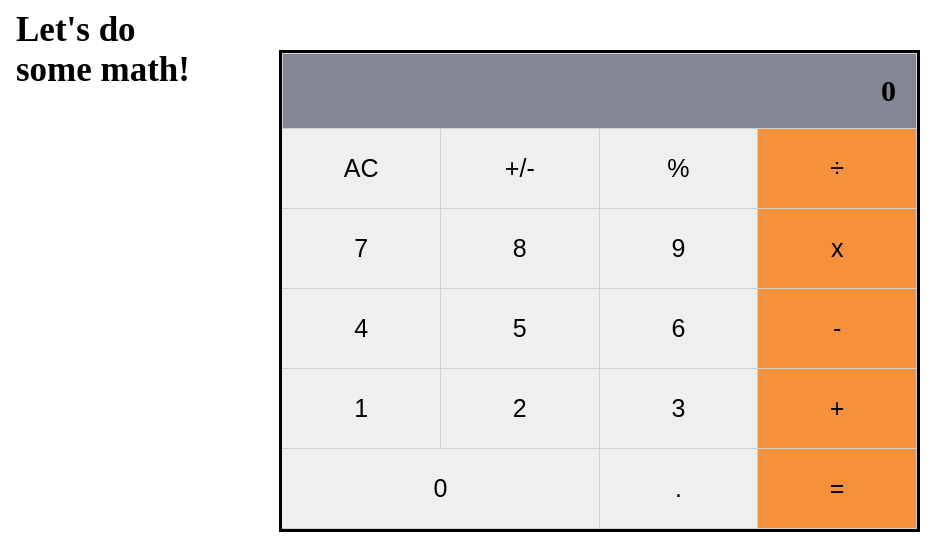
Test: Testing for calculator › See if the result of the operation 4-6 is -2
Step 1. Click the button "4" → point(362, 329), box [282,289,441,369]
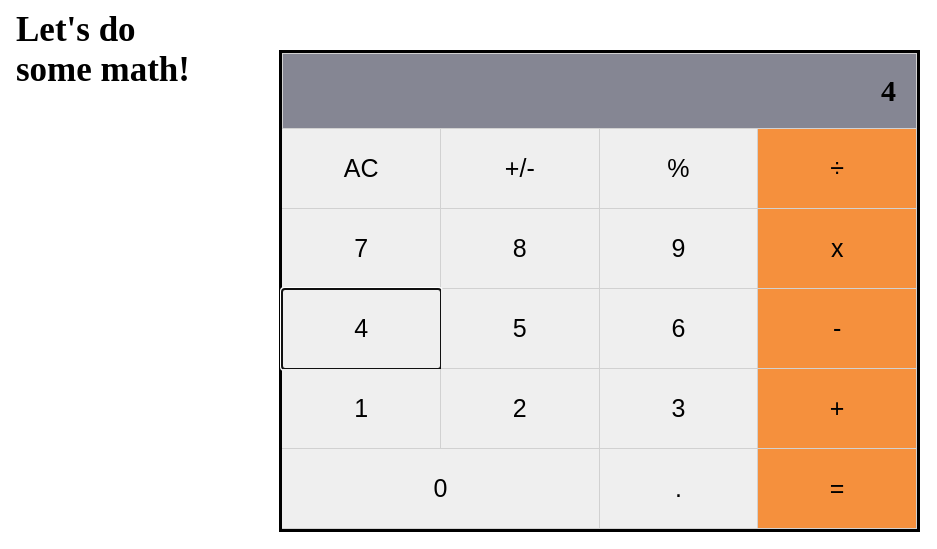
Step 2. Click the button "-" → point(838, 329), box [758,289,917,369]
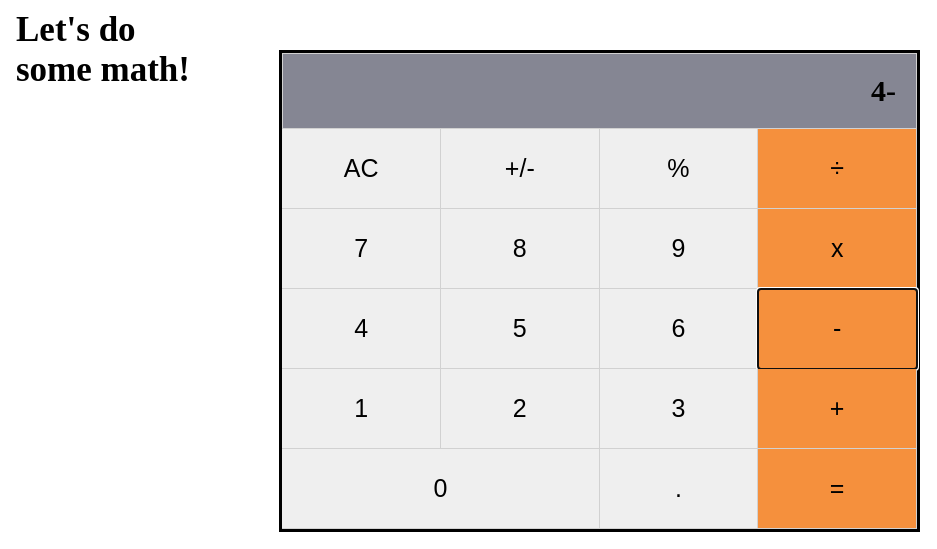
Step 3. Click the button "6" → point(679, 329), box [600,289,758,369]
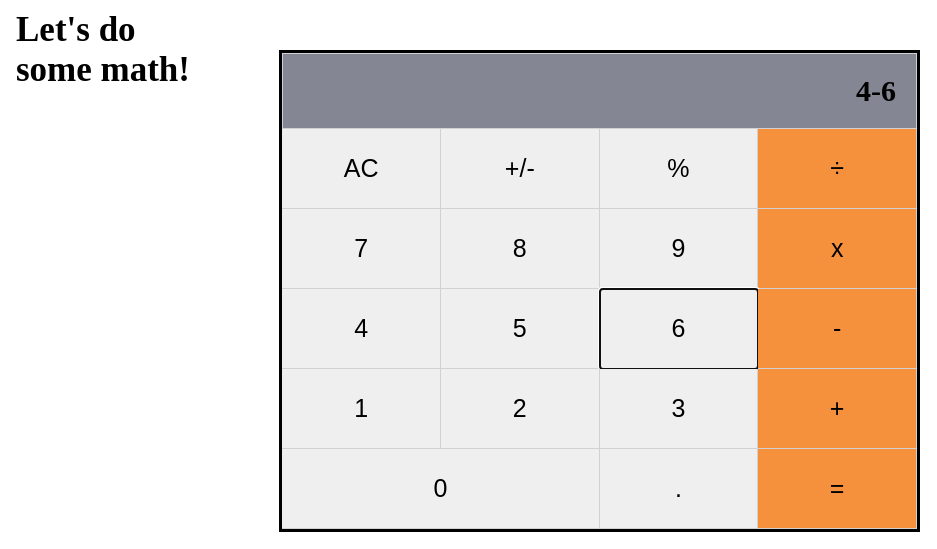
Step 4. Click the button "=" → point(838, 489), box [758,449,917,529]
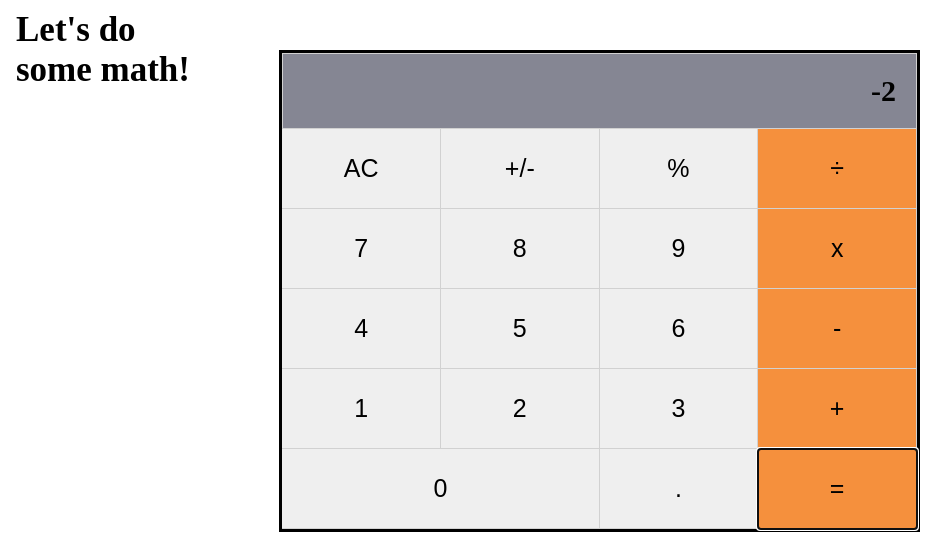
Expected: the heading with test id "testH2" reads "-2", [871,74,896,107]
